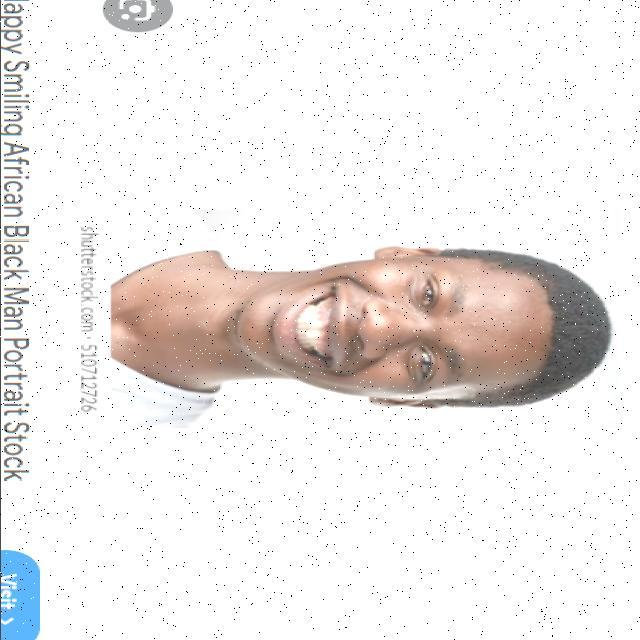face_no_mask: (254, 245, 543, 415)
